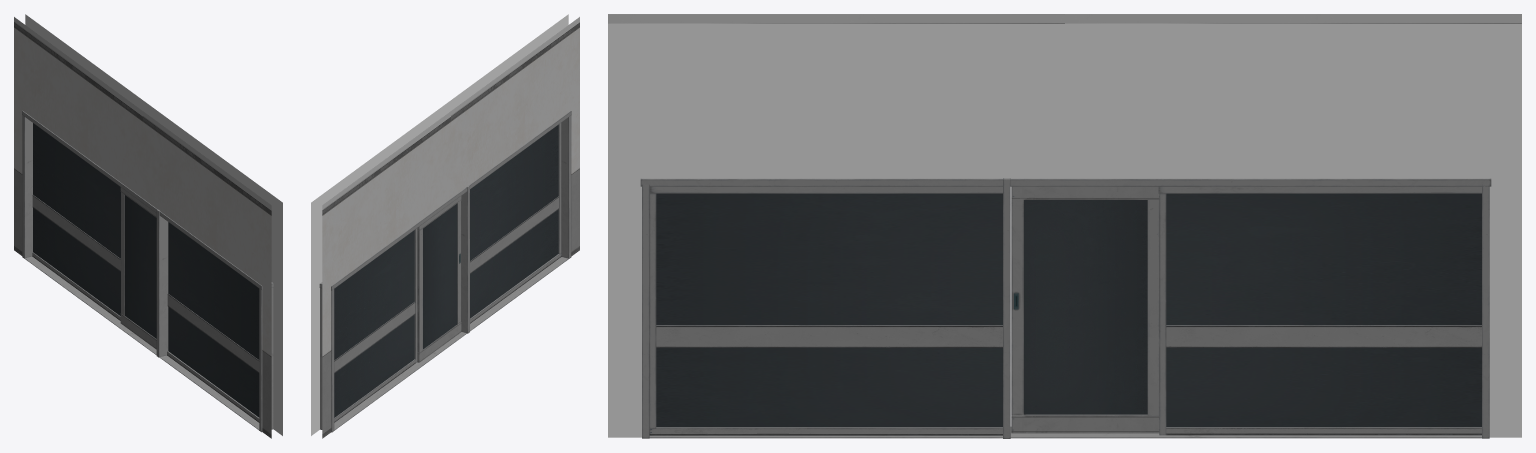
File: HH_PatientRoom_Wall_Glass_8m_02.fbx
3 renders of one model, left to right at view 1: azimuth 30°, elevation 25°; view 2: azimuth 150°, elevation 25°; view 3: azimuth 270°, elevation 25°, orthographic. The views are drawn at different scales.
Visible parts, largest first — view 1: HH_PatientRoom_Wall_Glass_8m_02, HH_PatientRoom_Wall_Glass1_8m_02, HH_PatientRoom_Door_03_Glass, HH_PatientRoom_Door_03; view 2: HH_PatientRoom_Wall_Glass_8m_02, HH_PatientRoom_Wall_Glass1_8m_02, HH_PatientRoom_Door_03_Glass, HH_PatientRoom_Door_03; view 3: HH_PatientRoom_Wall_Glass_8m_02, HH_PatientRoom_Wall_Glass1_8m_02, HH_PatientRoom_Door_03_Glass, HH_PatientRoom_Door_03.
Part boxes in pixels (x1,y1,x2,y2): HH_PatientRoom_Wall_Glass_8m_02: (14, 14, 282, 438); HH_PatientRoom_Wall_Glass1_8m_02: (33, 123, 259, 417); HH_PatientRoom_Door_03_Glass: (125, 195, 156, 338); HH_PatientRoom_Door_03: (120, 187, 156, 349); HH_PatientRoom_Wall_Glass_8m_02: (311, 14, 579, 438); HH_PatientRoom_Wall_Glass1_8m_02: (334, 125, 558, 417); HH_PatientRoom_Door_03_Glass: (423, 204, 457, 349); HH_PatientRoom_Door_03: (417, 196, 461, 362); HH_PatientRoom_Wall_Glass_8m_02: (608, 14, 1521, 438); HH_PatientRoom_Wall_Glass1_8m_02: (656, 193, 1481, 427); HH_PatientRoom_Door_03_Glass: (1024, 200, 1147, 414); HH_PatientRoom_Door_03: (1011, 186, 1159, 433).
Size of what is drawn, in the model's own units: 25.16 by 400 by 800.
